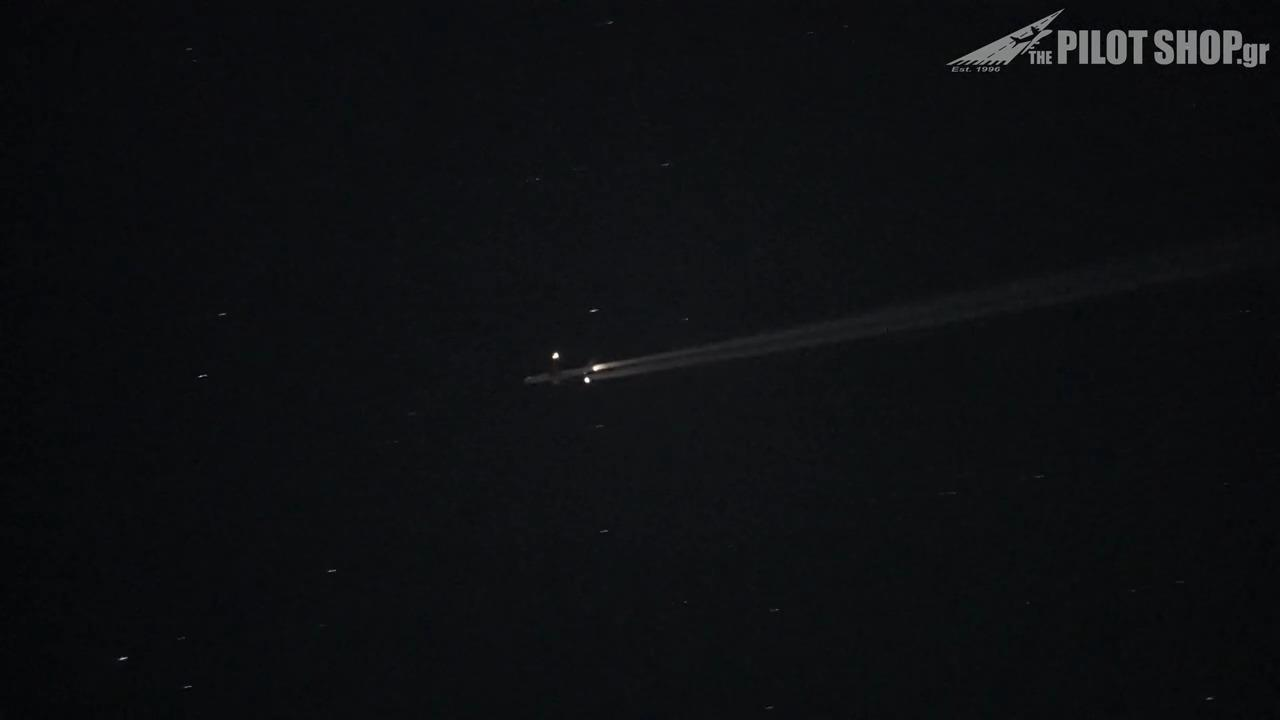Plane: (471, 344, 659, 402)
